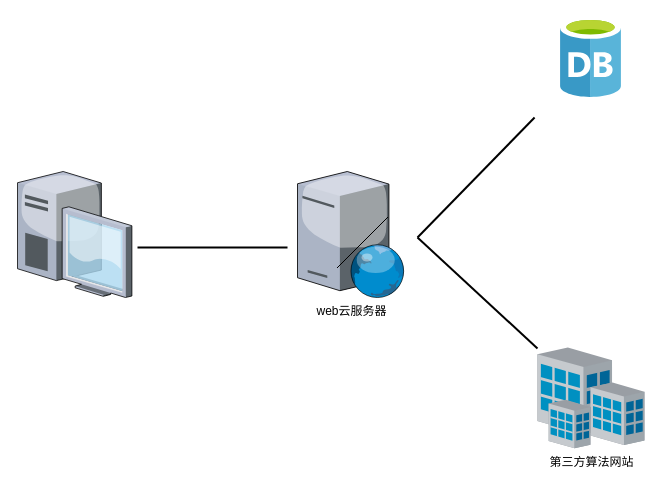
This 661x486 diagram has some shape labels left out. The shapes that lost their labels are listed below. From the top down, each one's centre as x and y in pixels, then its label:
point 590,57: 数据库
point 74,234: PC客户端
